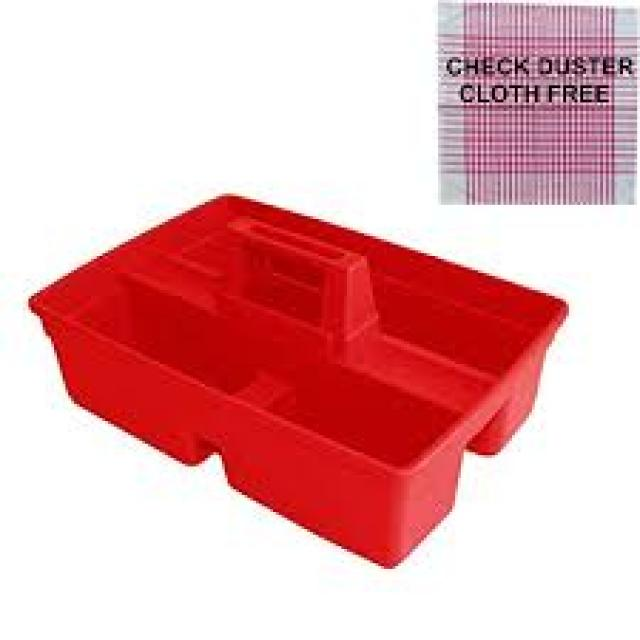basket: (0, 97, 581, 592)
